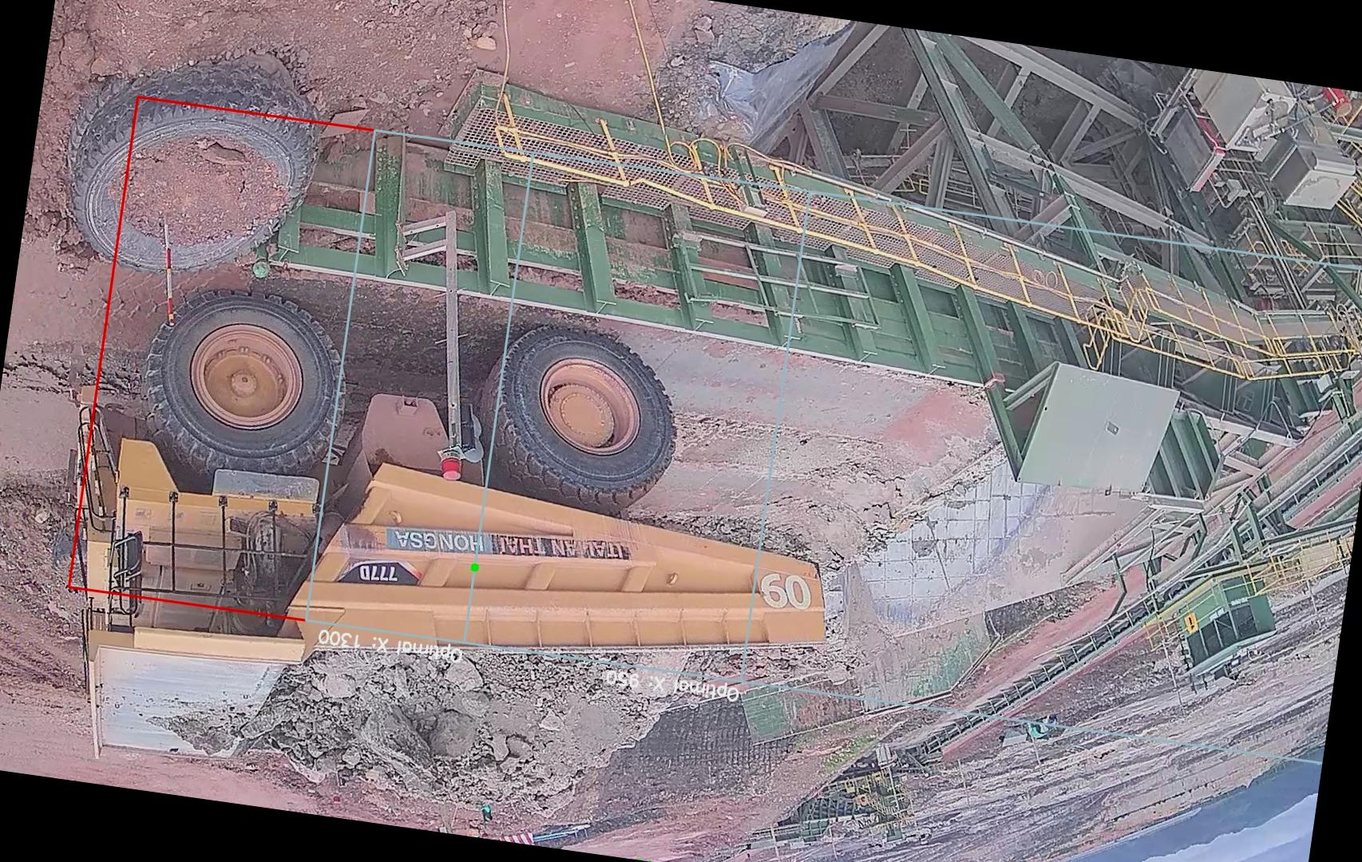company: (382, 508, 635, 585)
full_load: (276, 611, 637, 838)
mining_truck: (5, 261, 864, 862)
tail_number: (743, 558, 826, 624)
truck_size: (329, 548, 428, 602)
